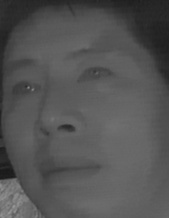eye: (77, 64, 115, 88), (9, 78, 41, 98)
mouth: (33, 154, 101, 188)
